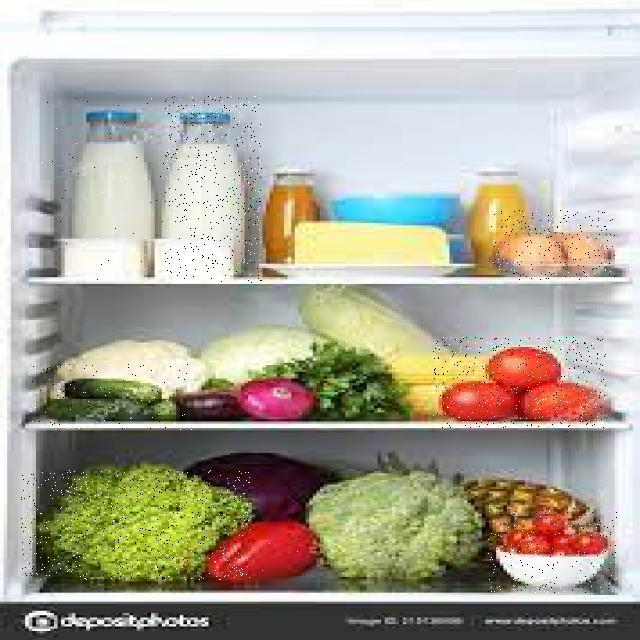broccoli: (21, 470, 251, 580)
courgettes: (28, 364, 192, 430)
eggs: (491, 210, 615, 280)
milk: (41, 96, 164, 283), (165, 96, 262, 283)
peppers: (197, 514, 330, 588)
tomatoes: (433, 337, 606, 428), (488, 507, 617, 593)
